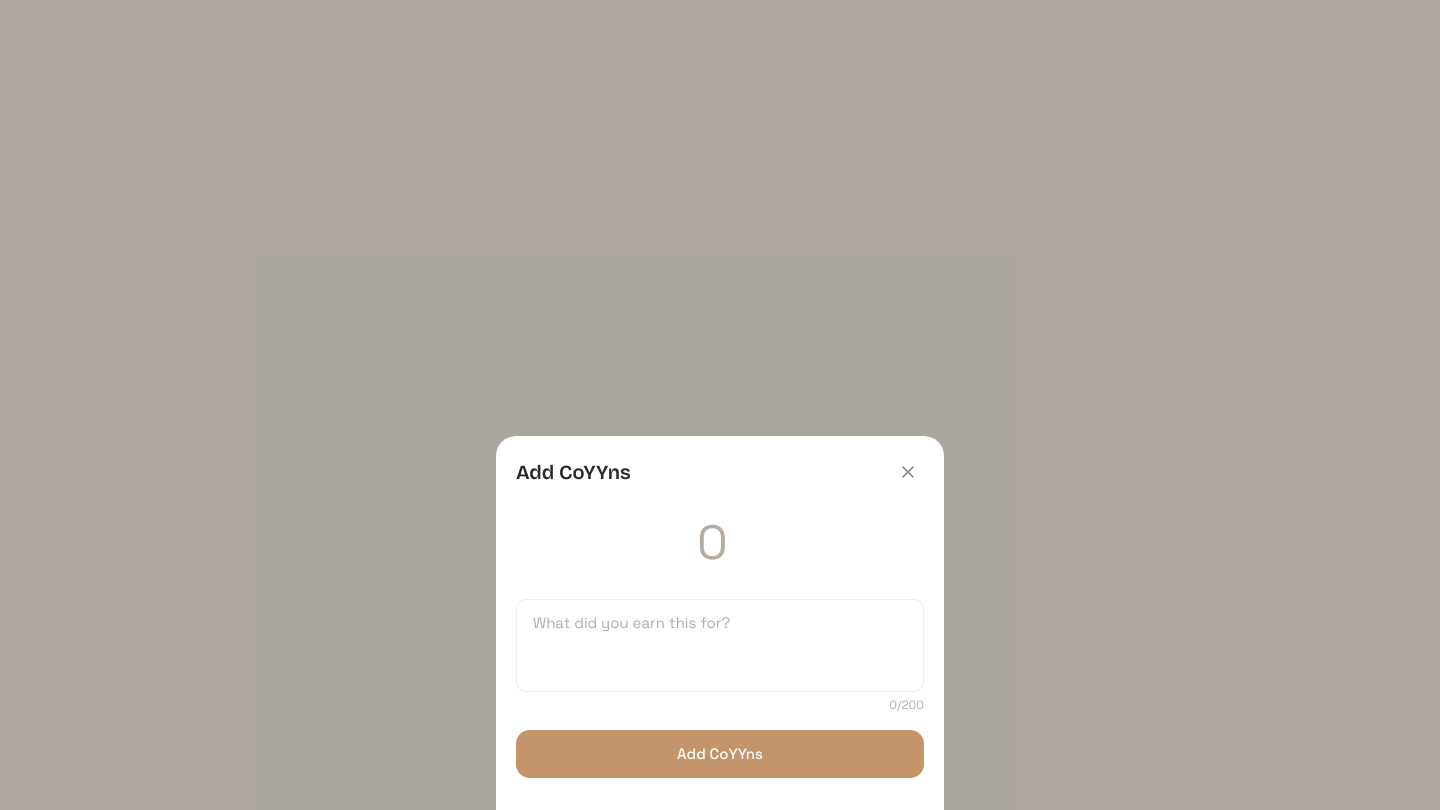
it: AddCoyynsForm › validates empty description shows error on submit
In the number field with test id "add-amount-input": (720, 547) [516, 512, 924, 582], type "50"
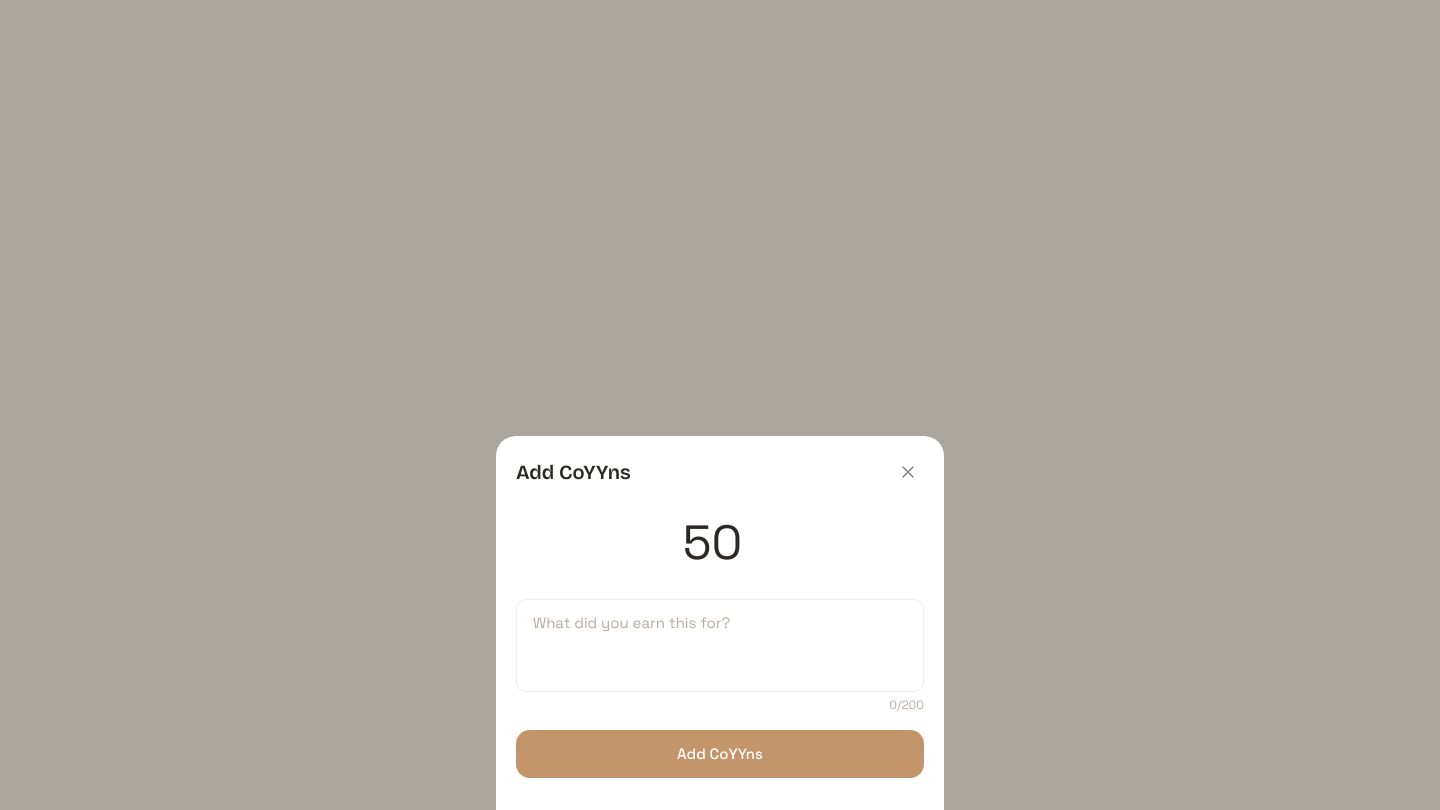
Click the button with test id "add-submit-button": (720, 754) [516, 730, 924, 778]
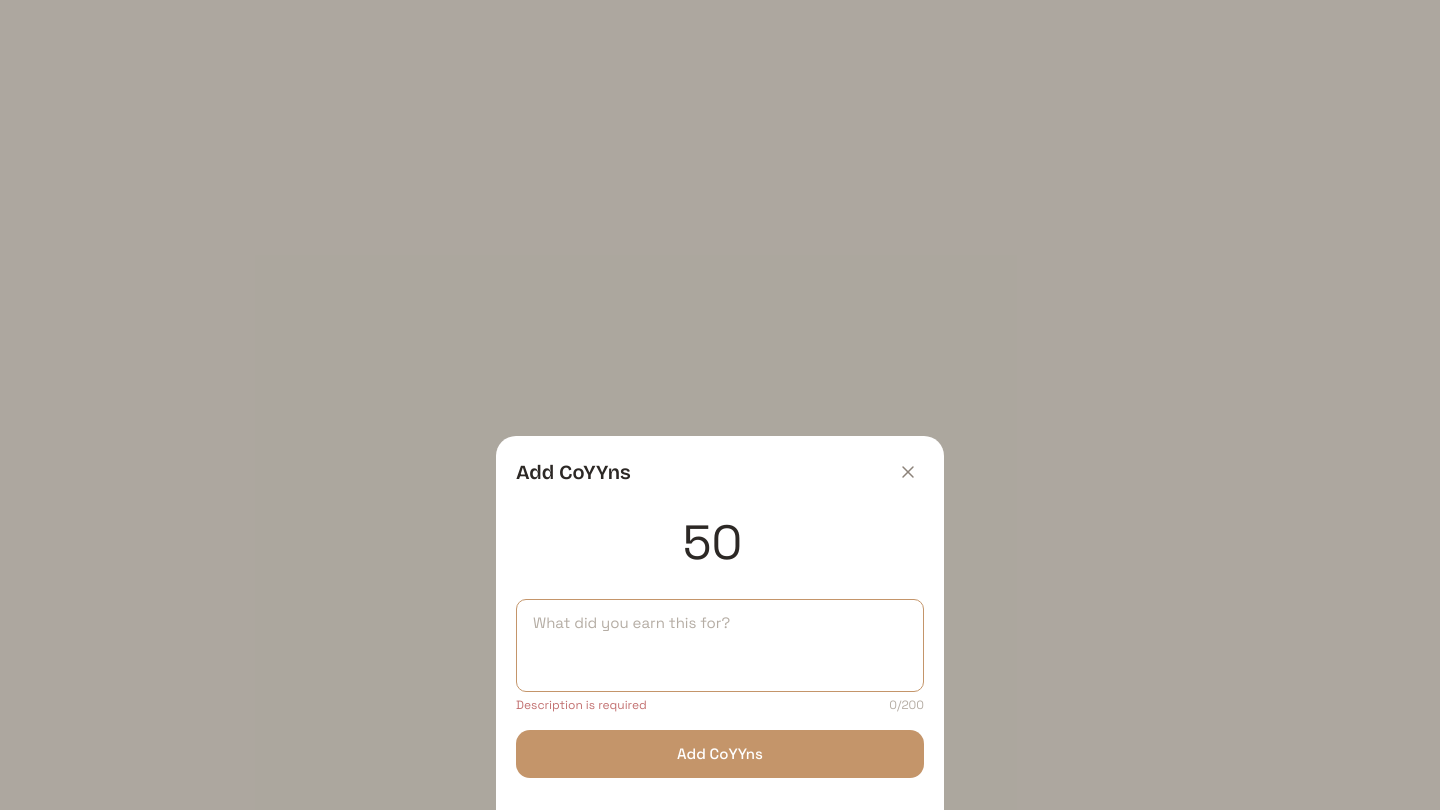
Expected: the text "Description is required" is shown, [516, 696, 647, 714]
